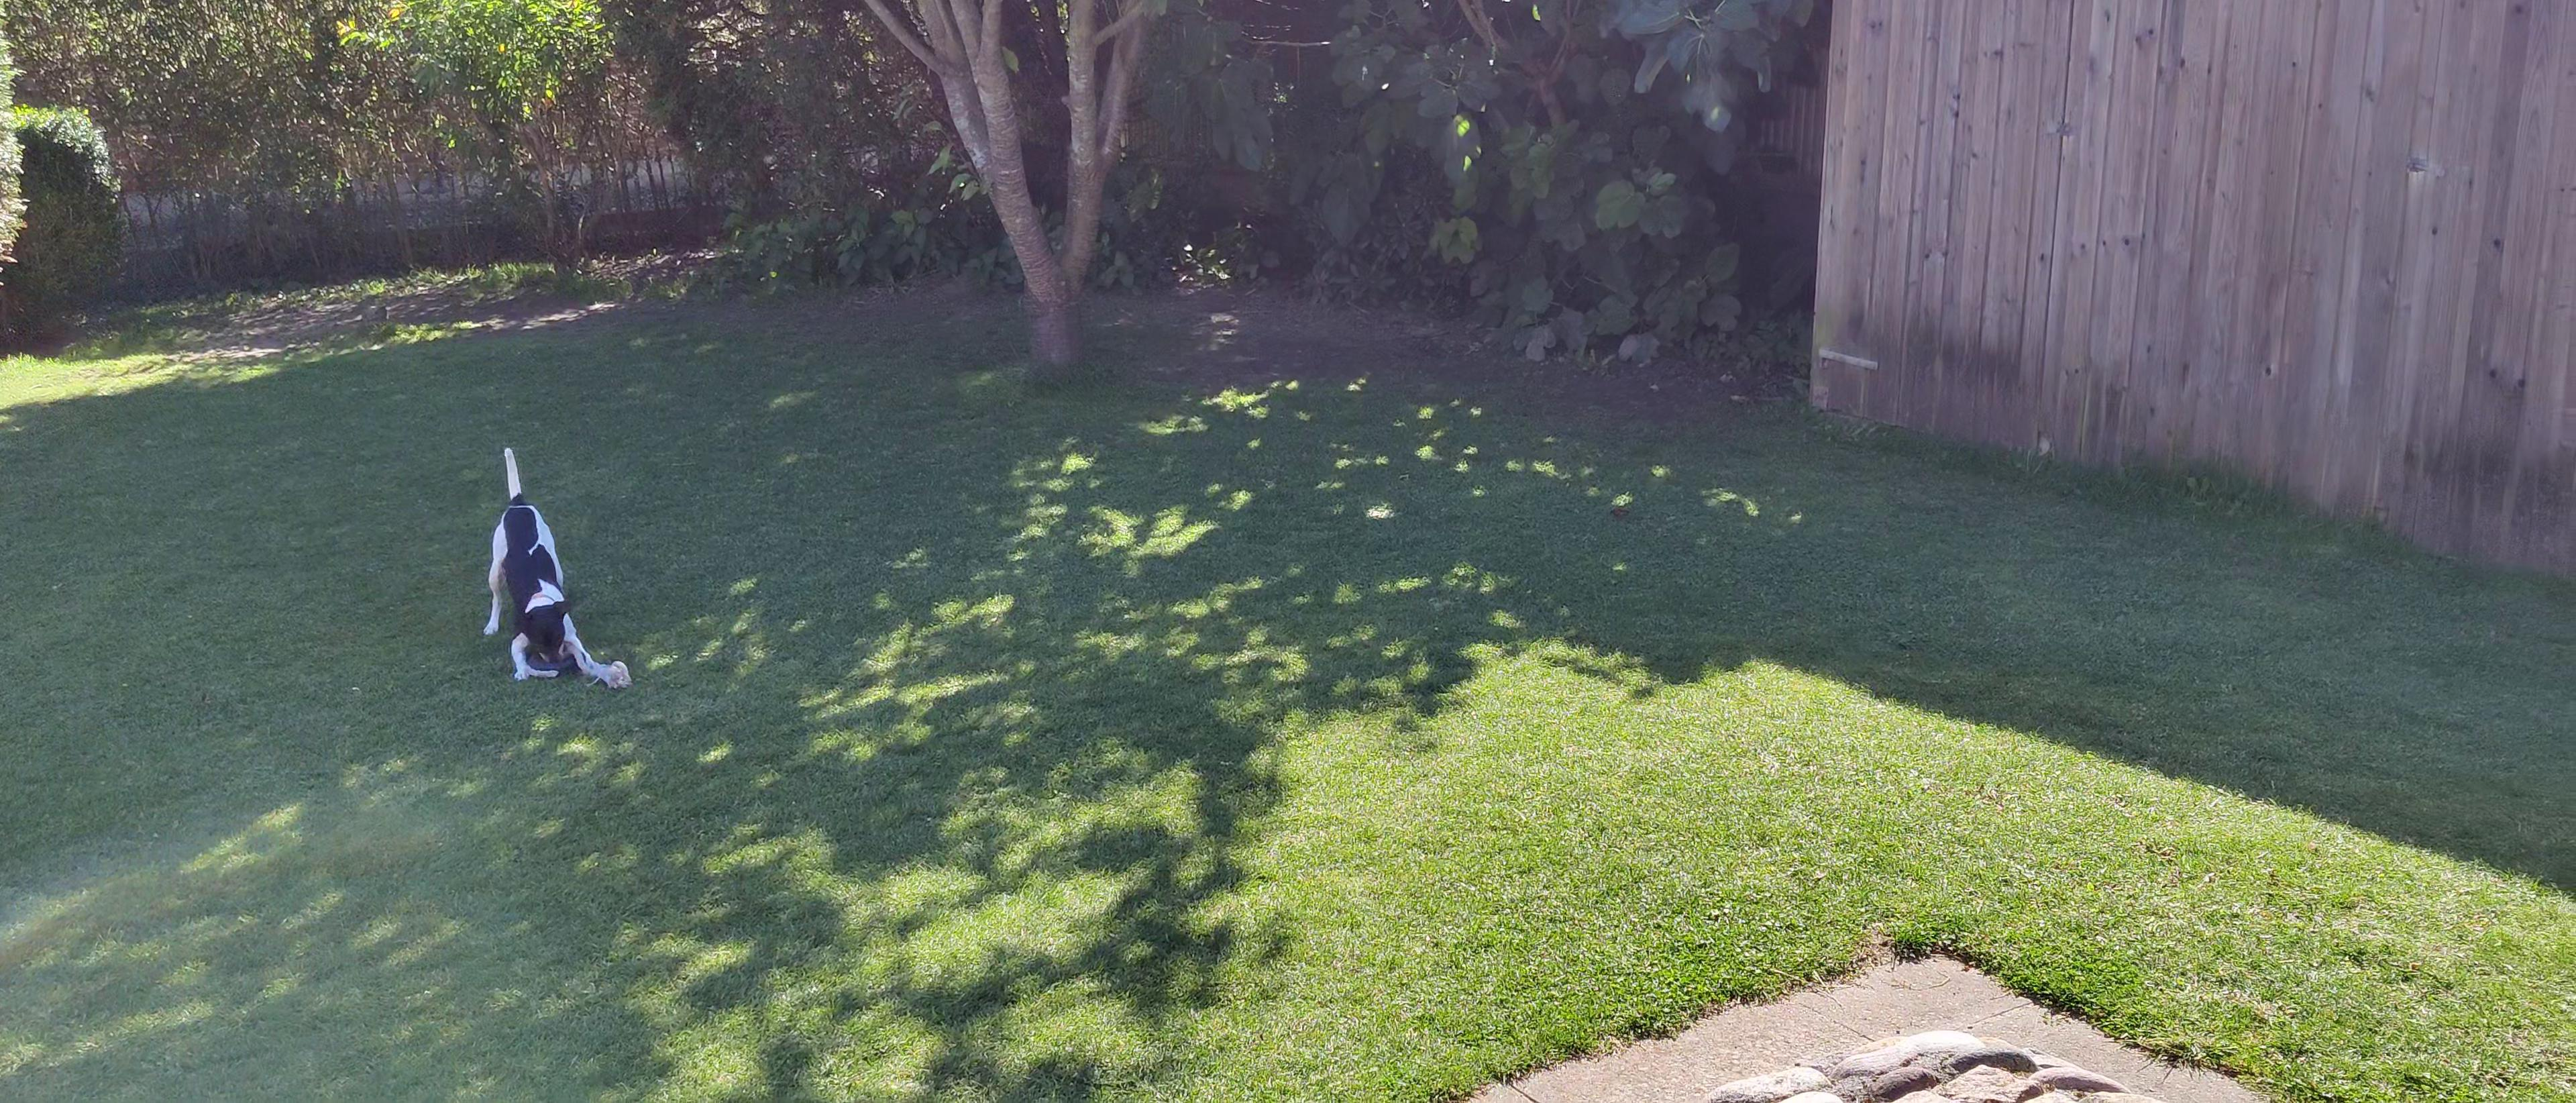Dog: (462, 439, 600, 687)
